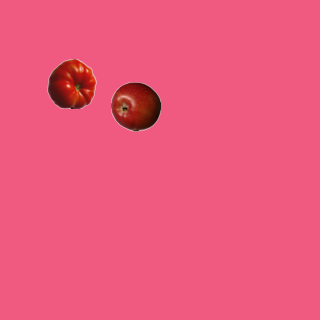Apple Braeburn: (110, 81, 160, 131)
Tomato 3: (46, 58, 96, 108)
